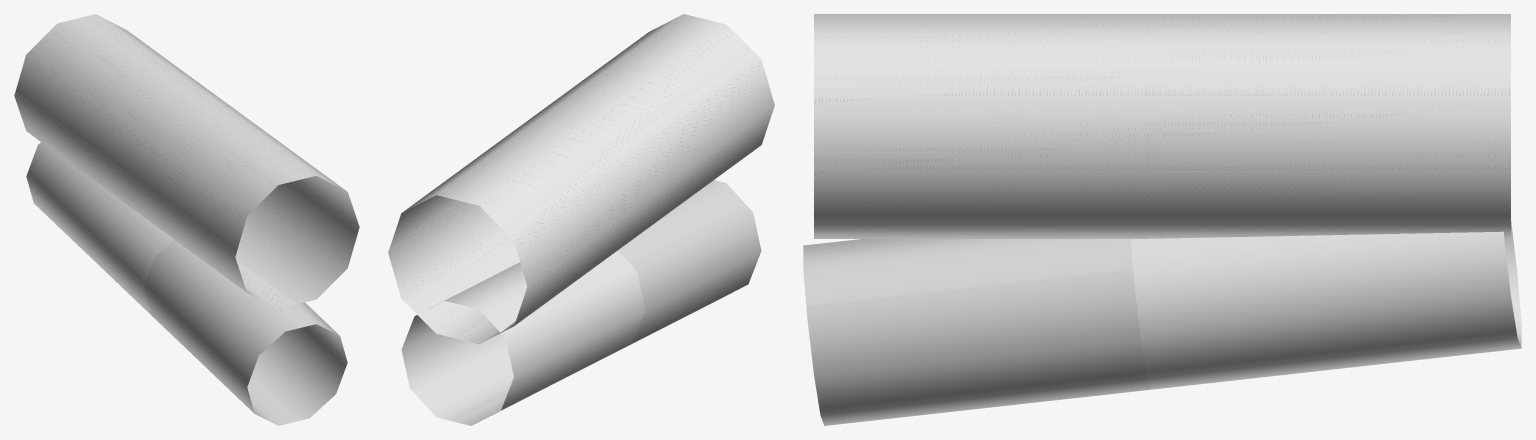
Rendered from trusssignalarm_level10_c13.obj.
The picture shows the model from 3 angles, left to right: view 1: azimuth 30°, elevation 25°; view 2: azimuth 150°, elevation 25°; view 3: azimuth 270°, elevation 25°; orthographic projection. The views are drawn at different scales.
Parts seen in each view (by area): view 1: trusssignalarm_level10_c13; view 2: trusssignalarm_level10_c13; view 3: trusssignalarm_level10_c13.
Part boxes in pixels (x1=…): trusssignalarm_level10_c13: x1=14, y1=14, x2=359, y2=425; trusssignalarm_level10_c13: x1=388, y1=14, x2=774, y2=425; trusssignalarm_level10_c13: x1=803, y1=14, x2=1521, y2=425.
Bounding box in the file's own units: 0.325 × 0.6097 × 1.03.
